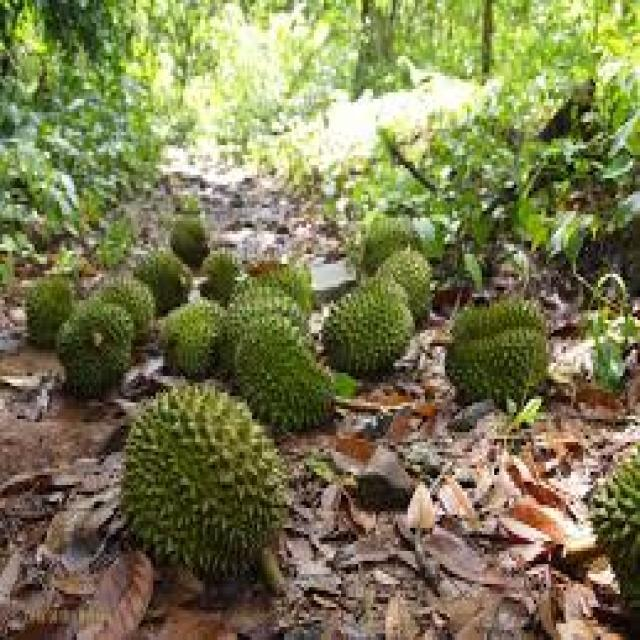immature: (125, 386, 289, 572), (231, 314, 337, 430), (445, 296, 550, 408), (321, 275, 416, 381), (57, 293, 135, 391)
